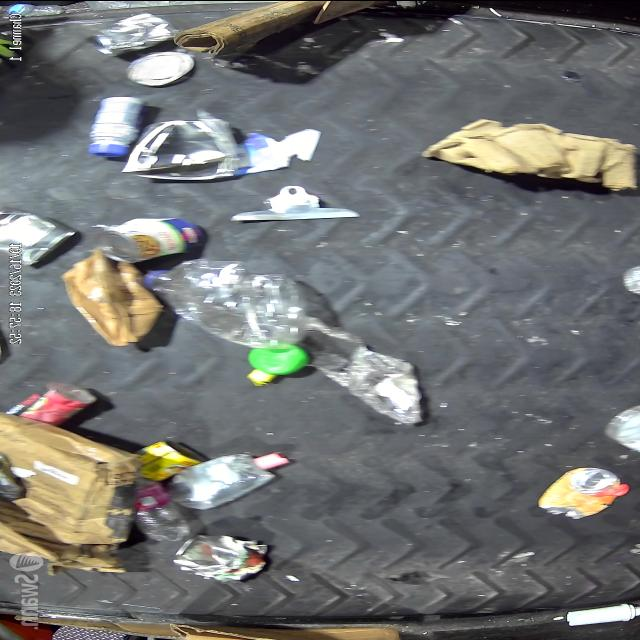can: (120, 119, 236, 179), (94, 216, 202, 262), (175, 533, 268, 581), (538, 466, 622, 519), (0, 210, 77, 265), (84, 12, 180, 56), (135, 441, 205, 479)
plastic_bottle: (143, 258, 304, 348), (174, 452, 290, 508), (118, 479, 190, 542), (604, 404, 640, 452), (0, 4, 62, 15)
